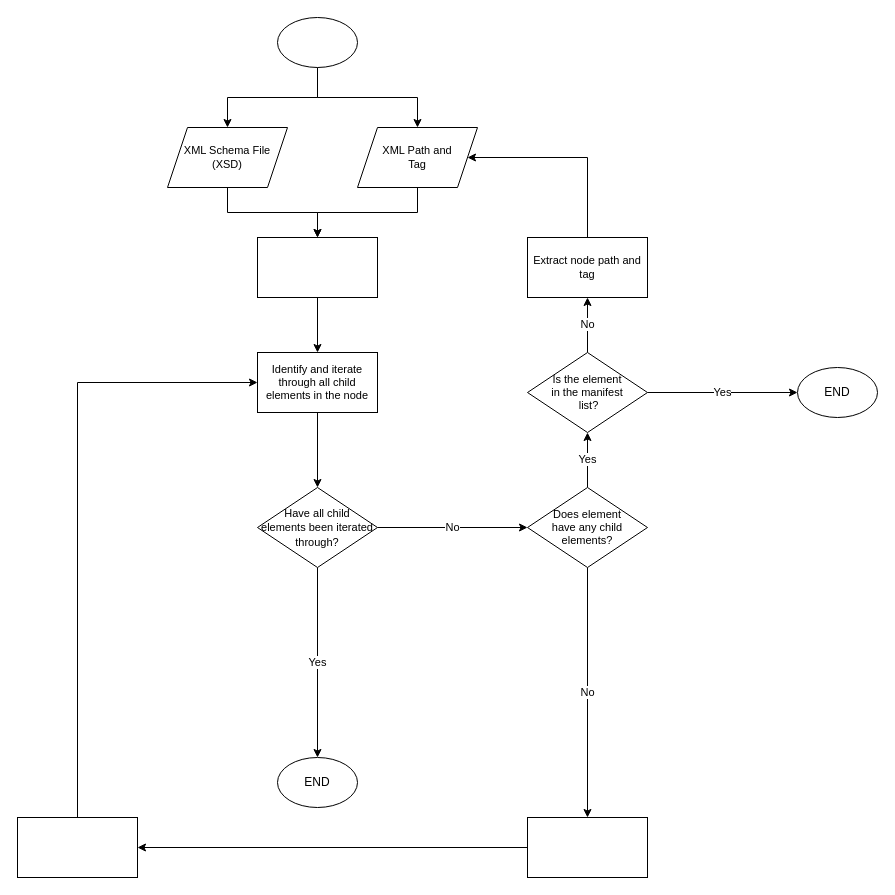
Image size: 895x895. Some labels were removed from this diagram. Here are the shapes that lost their labels. From the top down, the box of each, then its label:
(276, 16, 358, 68): START
(256, 236, 378, 298): Navigate to the node in the XSD file as specified by path and tag
(16, 816, 138, 878): Store element name and attributes as column configuration for master table
(526, 816, 648, 878): Element is a column. Extract attributes of node
